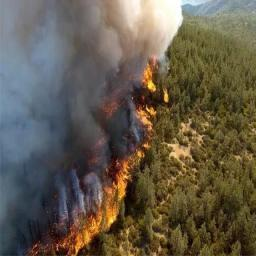Heavy smoke: (1, 2, 178, 90), (4, 91, 103, 233)
Medium fire: (55, 178, 126, 232), (96, 93, 161, 140), (87, 140, 140, 181), (32, 217, 87, 252), (143, 55, 170, 103)
